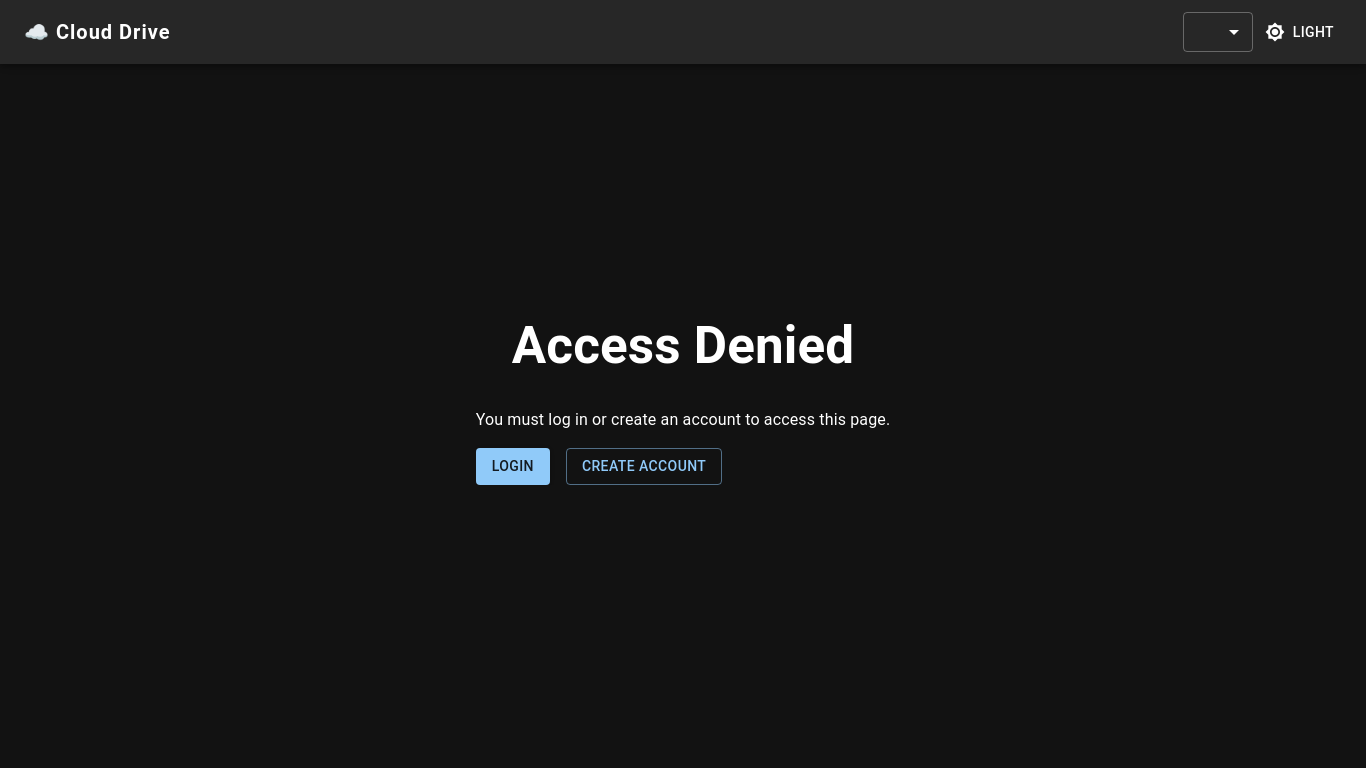
Test case: Protected Route - blocks unauthenticated users › navigates to register page when clicking "Create Account" on Access Denied
// The Access Denied page has both Login and Create Account buttons
Click the button "Create Account" at (644, 466), box [566,448,722,485]
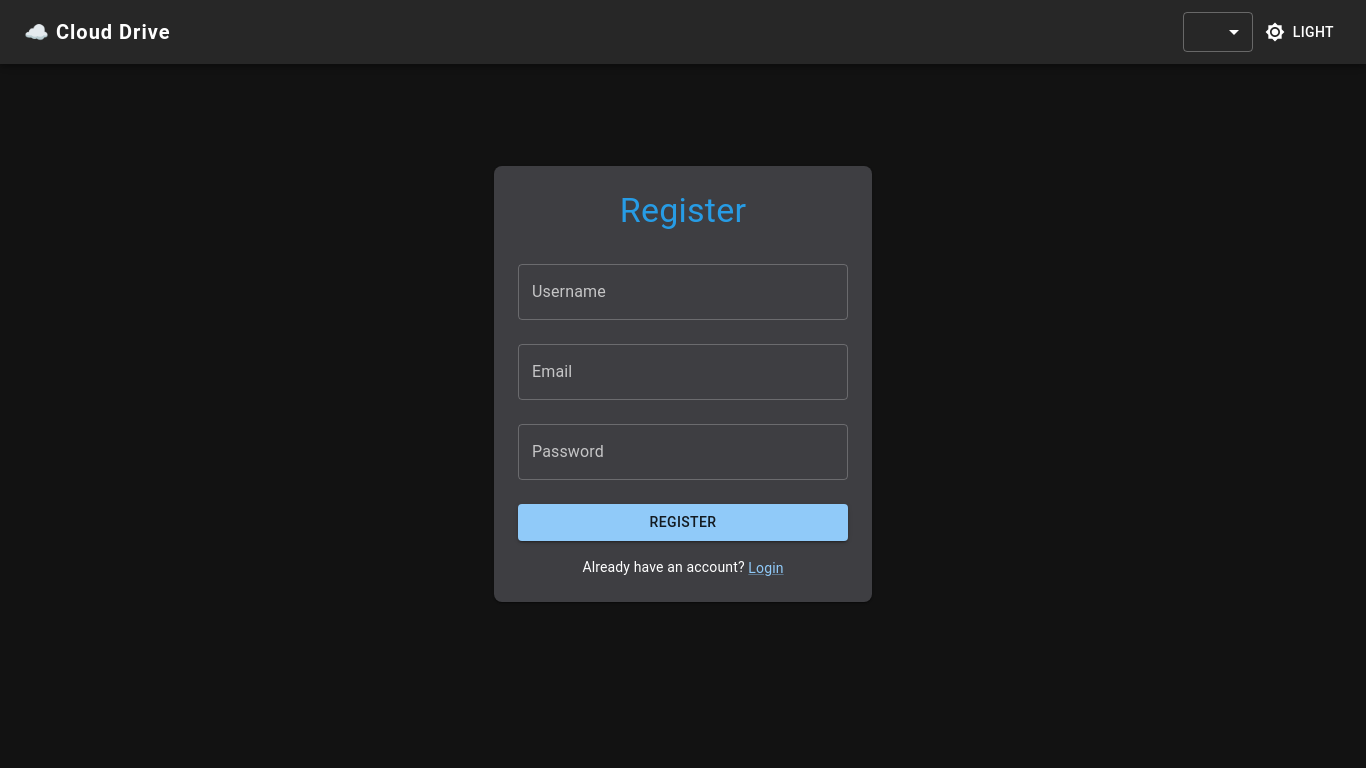
Now the heading "Register" is shown, box [620,190,746,230]
Now the field labelled "Username" is shown, box [518,264,848,320]
